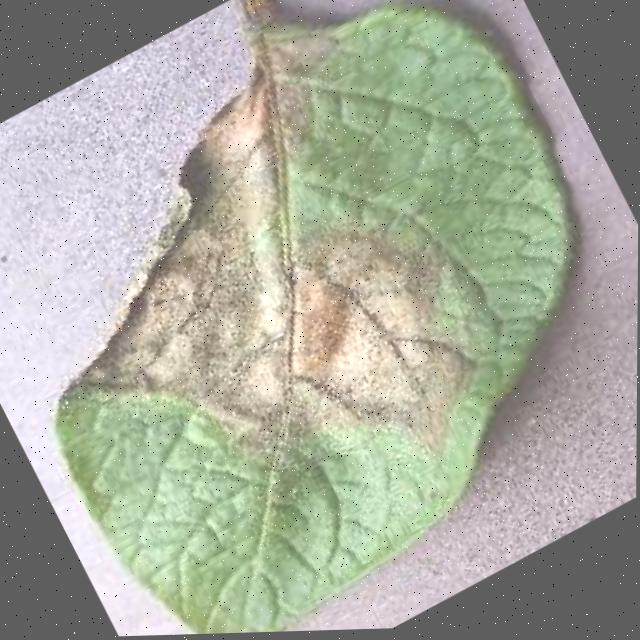Late_blight: (0, 11, 529, 618)
